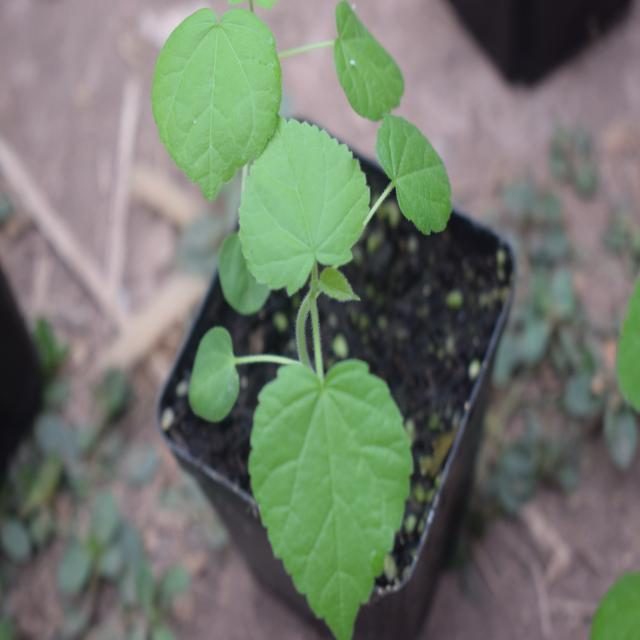abutilon theophrasti: (135, 7, 447, 608)
